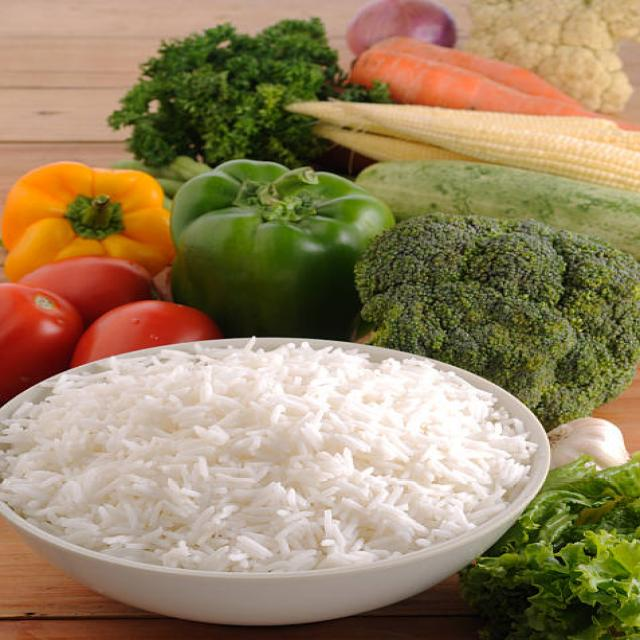rice: (0, 335, 537, 575)
